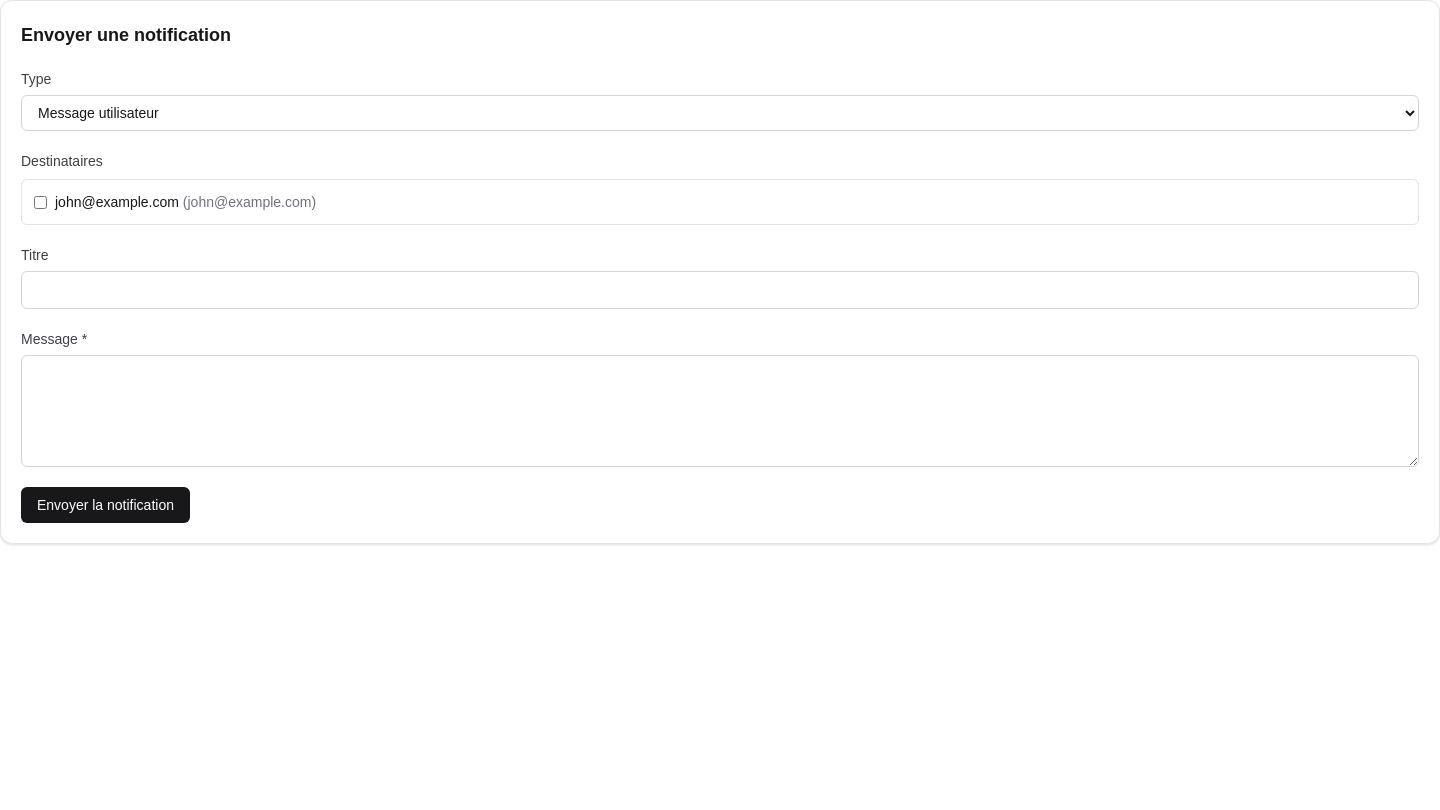
Test: AddNotificationForm › submits trimmed values, resets the form, and notifies the parent
Click the checkbox at (40, 202), box [34,196,47,208]
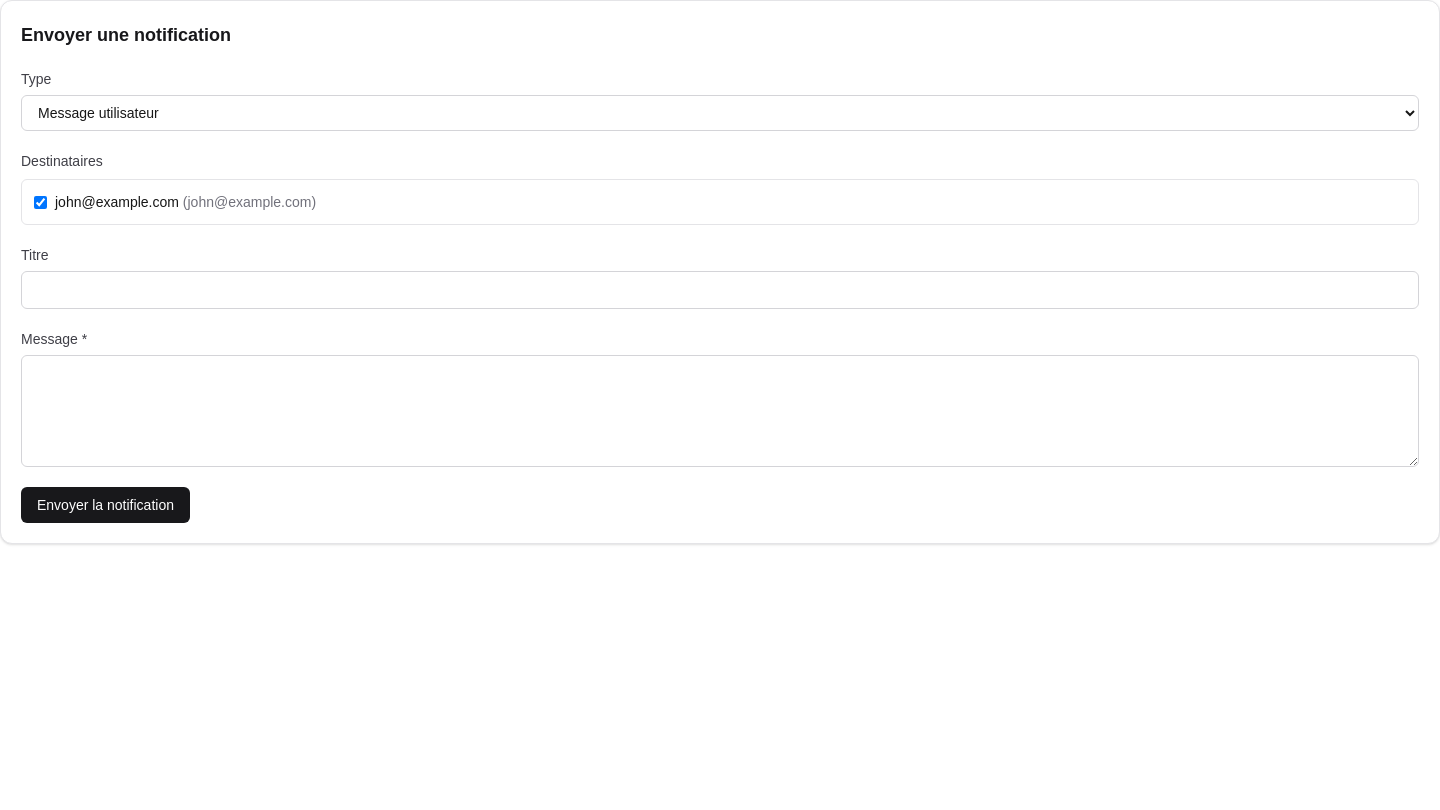
Type "  Titre  " into the field labelled "Titre" at (720, 290), box [21,271,1419,309]
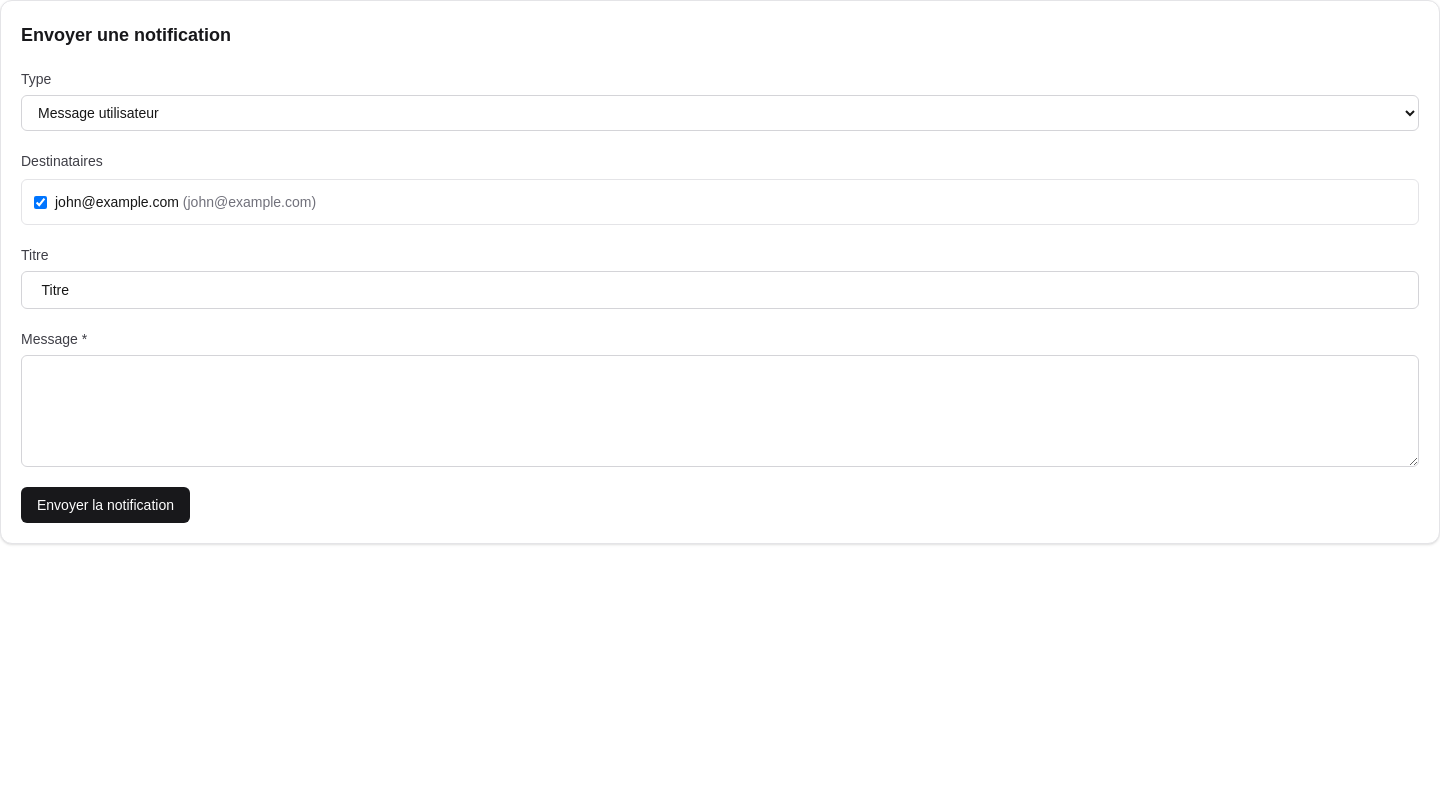
Type "  Bonjour  " into the text box labelled "Message *" at (720, 411), box [21,355,1419,467]
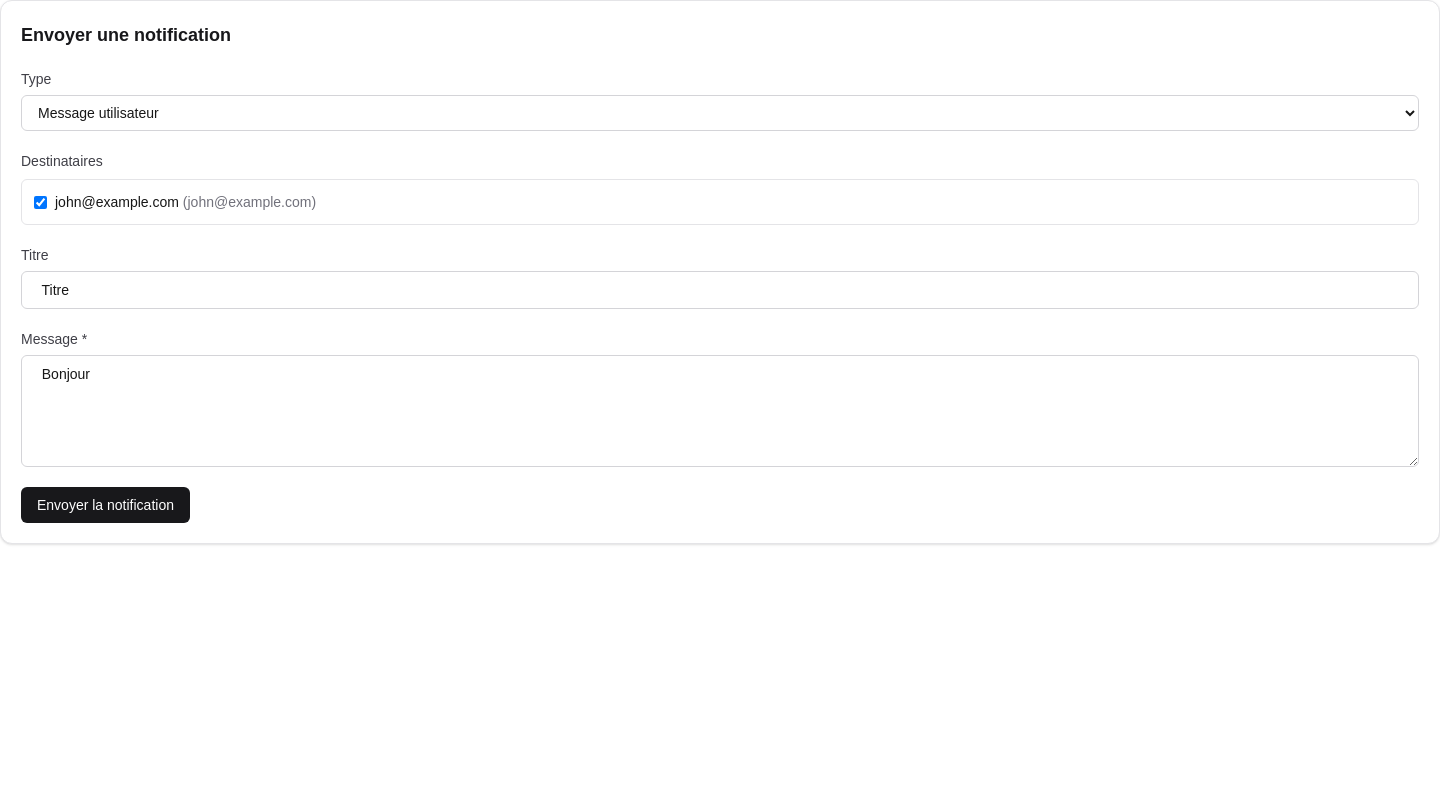
Click the button "Envoyer la notification" at (106, 505), box [21,487,190,523]
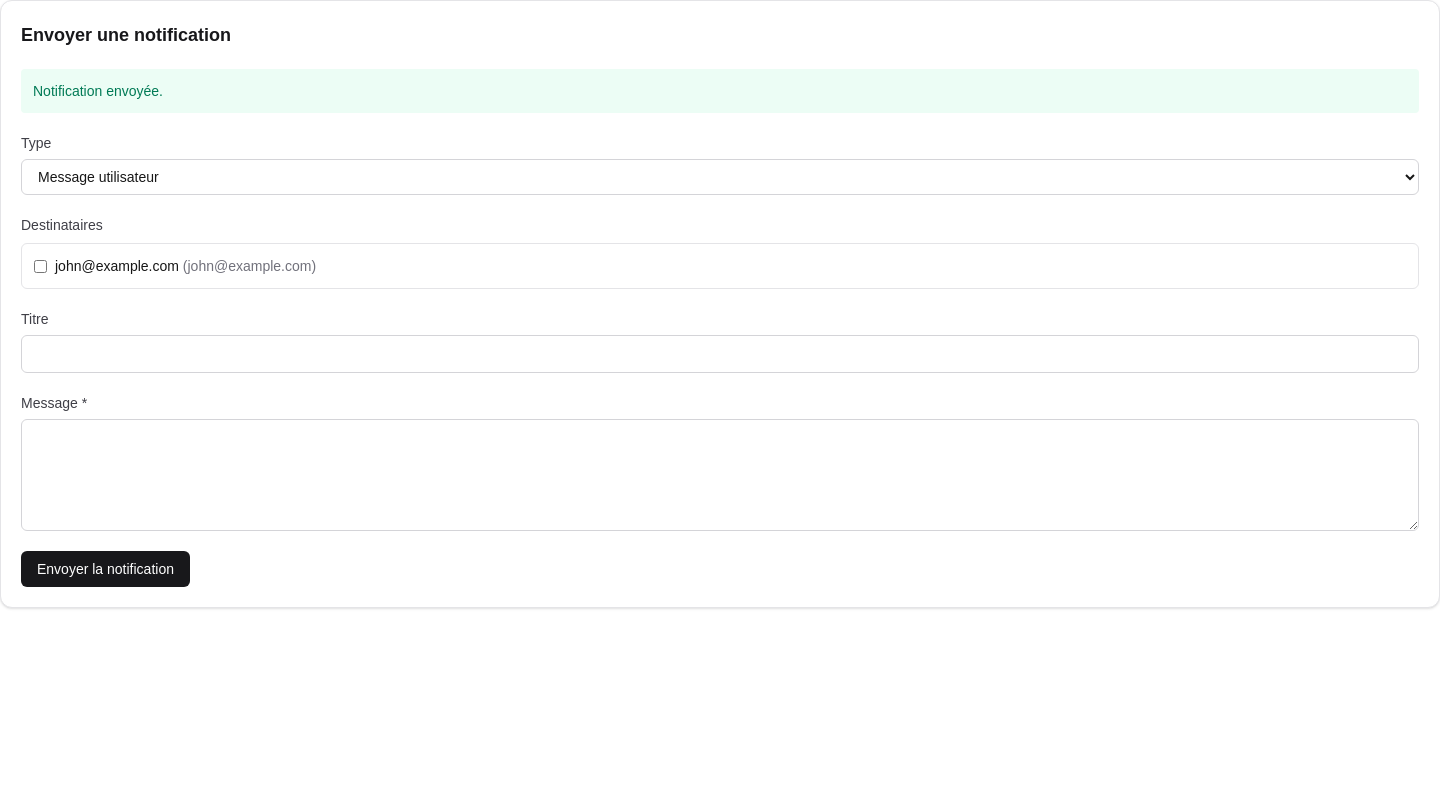
Expected: the field labelled "Titre" is empty, [21,335,1419,373]
Expected: the text box labelled "Message *" is empty, [21,419,1419,531]
Expected: the text "Notification envoyée." is shown, [21,69,1419,113]
